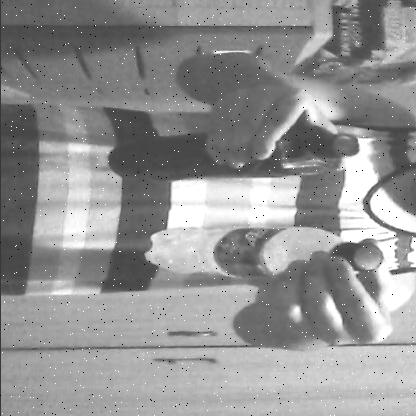Plastic Bottle: (129, 217, 393, 286)
